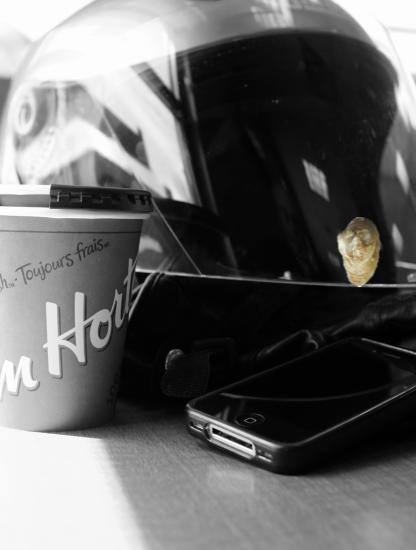Ginger: (324, 217, 395, 288)
